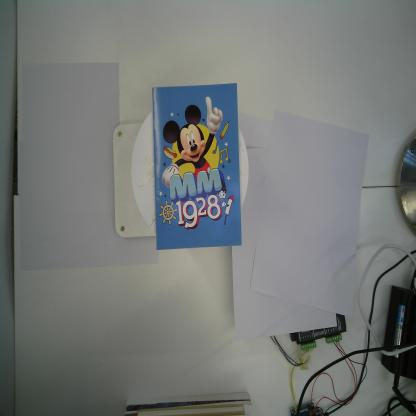Stationery: (149, 80, 246, 251)
